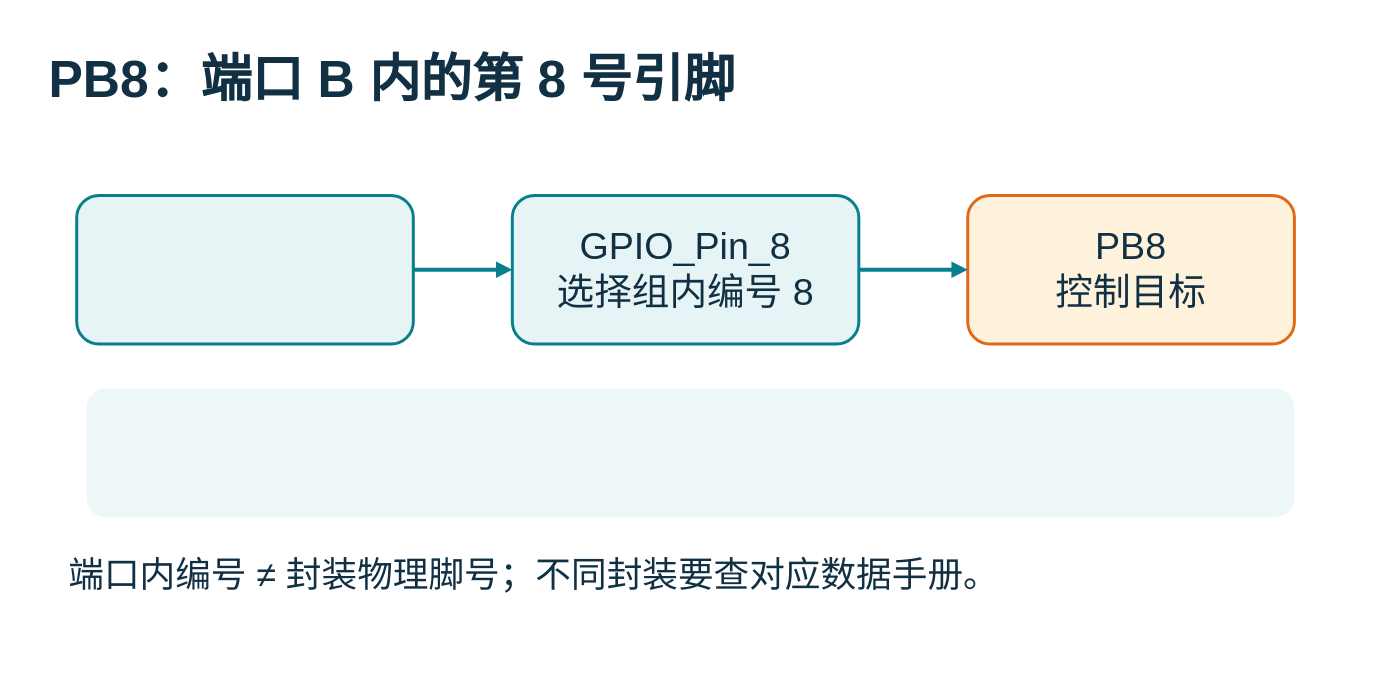
The diagram is 1380 pixels wide and 677 high, and some of its shapes have lost their labels. The shapes that lost their labels are listed below. From the top down, each one's centre as x and y in pixels, then its label:
At (244,269): "GPIOB 选择端口 B".
At (690,452): "GPIO_Init(GPIOB, &GPIO_InitStructure); GPIO_InitStructure.GPIO_Pin = GPIO_Pin_8;".
